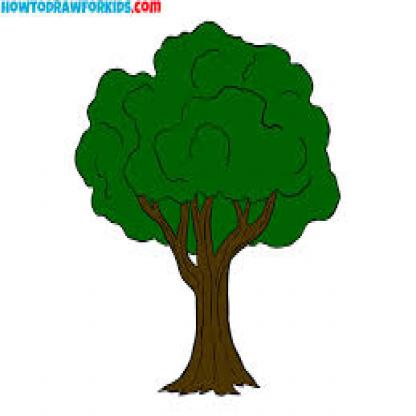branch_cut: (135, 184, 278, 274)
crown_cloud: (72, 17, 340, 256)
root_only: (155, 362, 265, 405)
trunk_bark: (189, 304, 239, 354)
